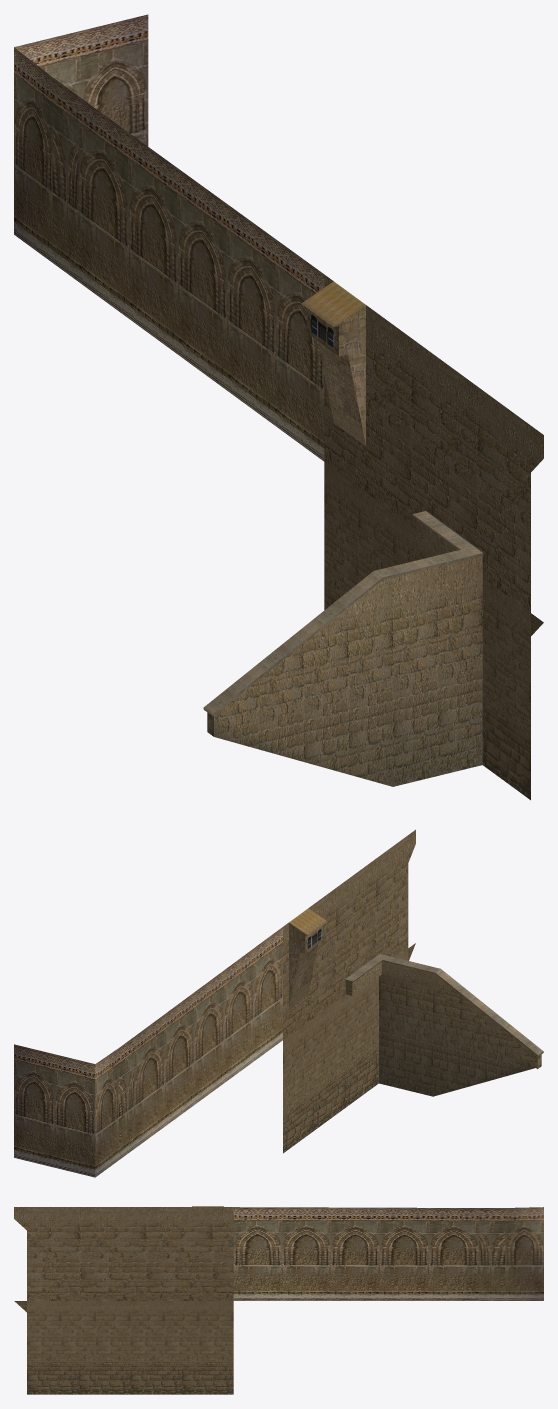
The model's file is M7Z2_WallSection3D.glb.
3 views of the same model, one above another, from view 1: azimuth 30°, elevation 25°; view 2: azimuth 150°, elevation 25°; view 3: azimuth 270°, elevation 25° (orthographic). The views are drawn at different scales.
Visible parts, largest first — view 1: M7Z2_WALLSECTION3D; view 2: M7Z2_WALLSECTION3D; view 3: M7Z2_WALLSECTION3D.
Boxes of the visible parts, box(x1,y1,x2,y2) form: M7Z2_WALLSECTION3D: box(14, 14, 543, 800); M7Z2_WALLSECTION3D: box(14, 829, 543, 1177); M7Z2_WALLSECTION3D: box(14, 1206, 543, 1394).
Bounding box in the file's own units: 18.13 × 16 × 41.
Materials: 9 (9 with a texture image).
